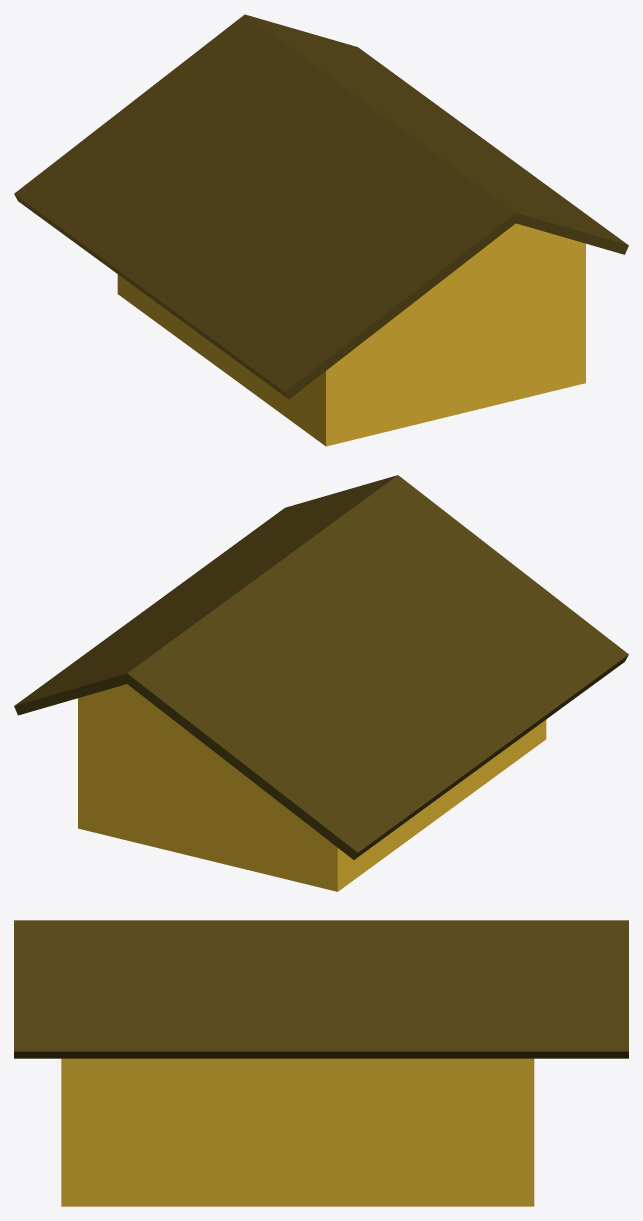
The model's file is result.dae.
The picture shows the model from 3 angles, top to bottom: view 1: azimuth 30°, elevation 25°; view 2: azimuth 150°, elevation 25°; view 3: azimuth 270°, elevation 25°; orthographic projection. The views are drawn at different scales.
Visible parts, largest first — view 1: 5b1f7bb0-54b0-42d4-89d3-ad728f4d2924__undefined (×5), 6f61f847-93ca-49ab-85eb-1e881d7f3442__undefined (×2); view 2: 5b1f7bb0-54b0-42d4-89d3-ad728f4d2924__undefined (×5), 6f61f847-93ca-49ab-85eb-1e881d7f3442__undefined (×2); view 3: 5b1f7bb0-54b0-42d4-89d3-ad728f4d2924__undefined (×2), 6f61f847-93ca-49ab-85eb-1e881d7f3442__undefined.
Part boxes in pixels (x1,y1,x2,y2): 5b1f7bb0-54b0-42d4-89d3-ad728f4d2924__undefined (×5): (14, 14, 628, 399); 6f61f847-93ca-49ab-85eb-1e881d7f3442__undefined (×2): (117, 223, 585, 446); 5b1f7bb0-54b0-42d4-89d3-ad728f4d2924__undefined (×5): (14, 475, 628, 859); 6f61f847-93ca-49ab-85eb-1e881d7f3442__undefined (×2): (78, 684, 546, 891); 5b1f7bb0-54b0-42d4-89d3-ad728f4d2924__undefined (×2): (14, 920, 628, 1058); 6f61f847-93ca-49ab-85eb-1e881d7f3442__undefined: (61, 1058, 534, 1206).
Size of the model in its own units: 953 by 550 by 1300.
